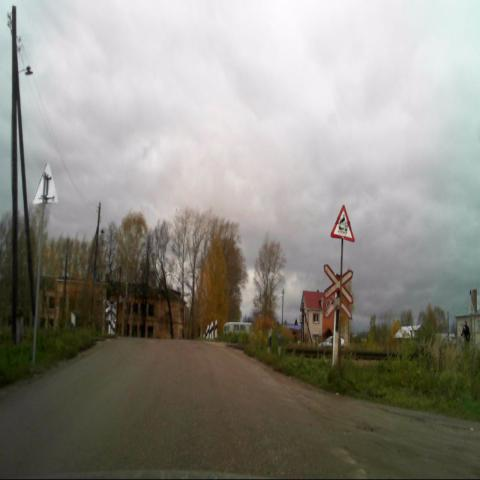1_2: (330, 202, 355, 243)
